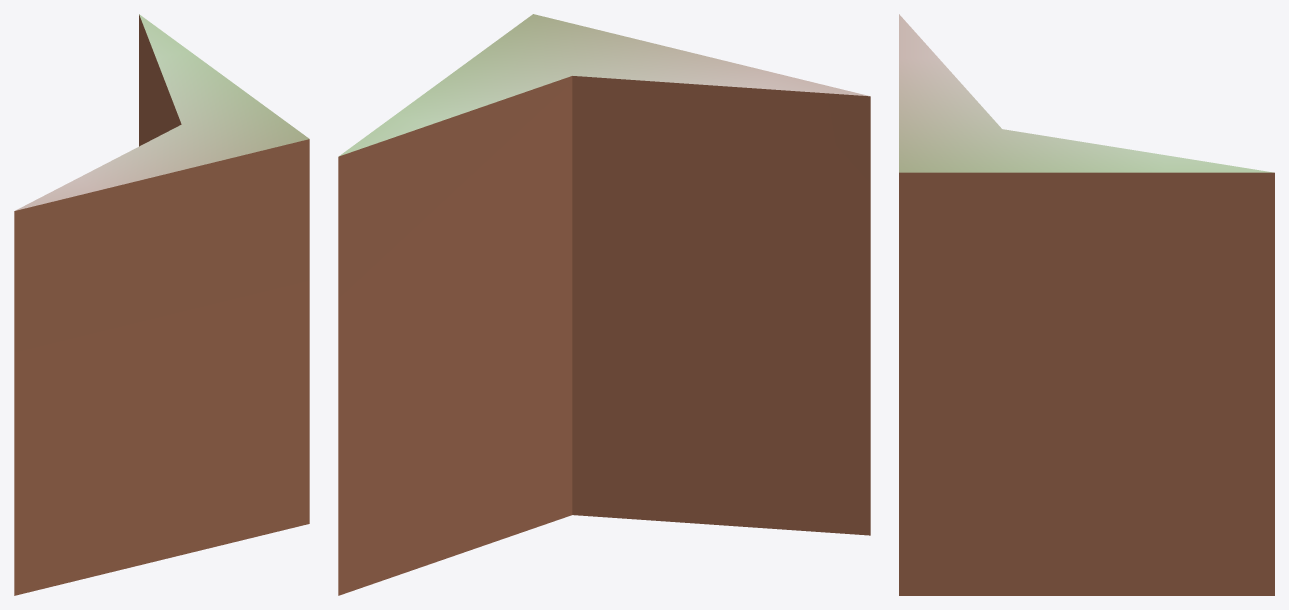
File: SeaCorner.Concave.C.Snow.glb
3 renders of one model, left to right at view 1: azimuth 30°, elevation 25°; view 2: azimuth 150°, elevation 25°; view 3: azimuth 270°, elevation 25°, orthographic. The views are drawn at different scales.
Parts seen in each view (by area): view 1: SeaCorner.Concave.C.Snow; view 2: SeaCorner.Concave.C.Snow; view 3: SeaCorner.Concave.C.Snow.
Part boxes in pixels (<box>): SeaCorner.Concave.C.Snow: <box>14,14,309,595</box>; SeaCorner.Concave.C.Snow: <box>338,14,870,595</box>; SeaCorner.Concave.C.Snow: <box>899,14,1274,595</box>.
Size of the model in its own units: 0.7994 by 0.9943 by 0.8.
Materials: 1 (1 with a texture image).
